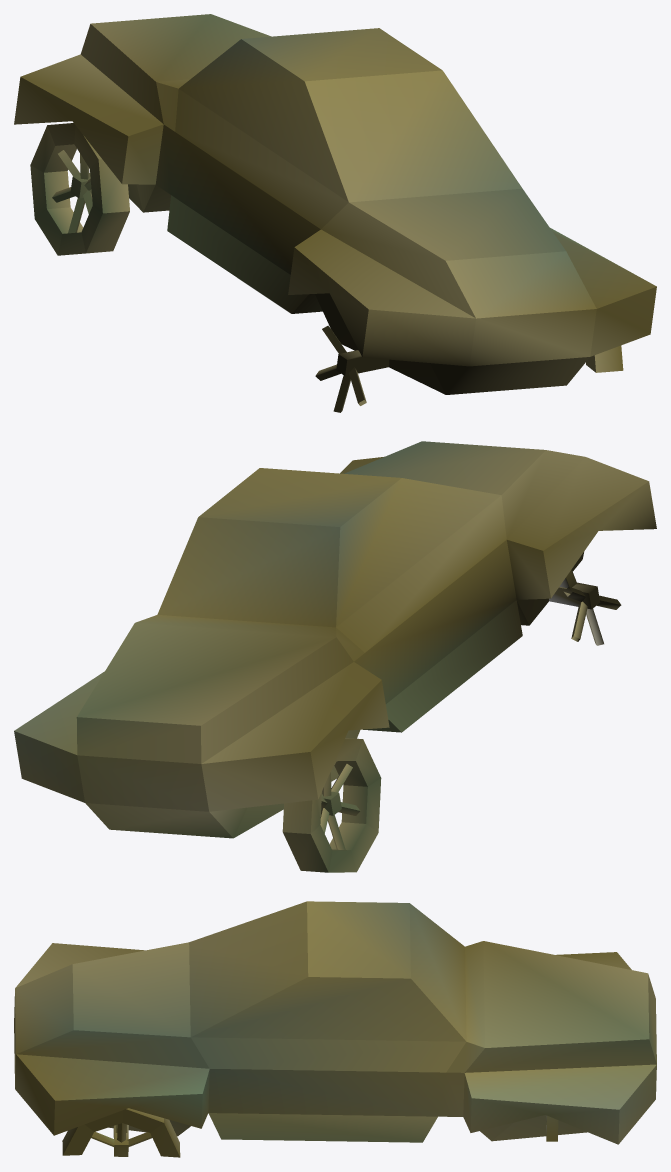
Rendered from VeiculoArruinadoA.fbx.
The picture shows the model from 3 angles, top to bottom: view 1: azimuth 30°, elevation 25°; view 2: azimuth 150°, elevation 25°; view 3: azimuth 270°, elevation 25°; orthographic projection. The views are drawn at different scales.
Visible parts, largest first — view 1: LOD_0; view 2: LOD_0; view 3: LOD_0.
Boxes of the visible parts, x1,y1,x2,y2 form: LOD_0: [14, 14, 656, 412]; LOD_0: [14, 441, 656, 872]; LOD_0: [14, 901, 656, 1157].
Size of what is drawn, in the model's own units: 182 by 149 by 401.
